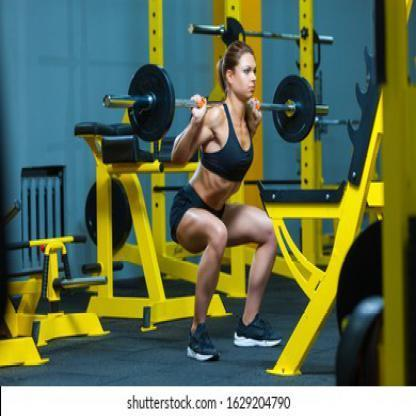barbell: (101, 63, 330, 144)
